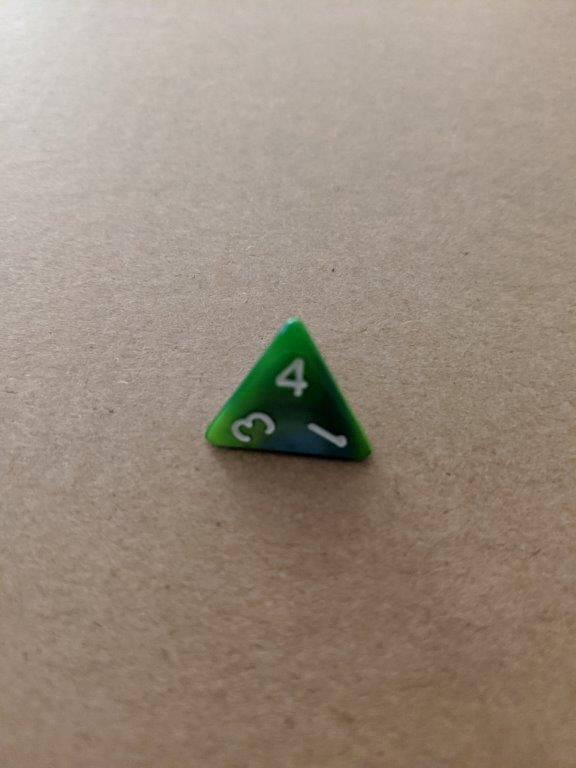d4-4: (204, 315, 374, 468)
